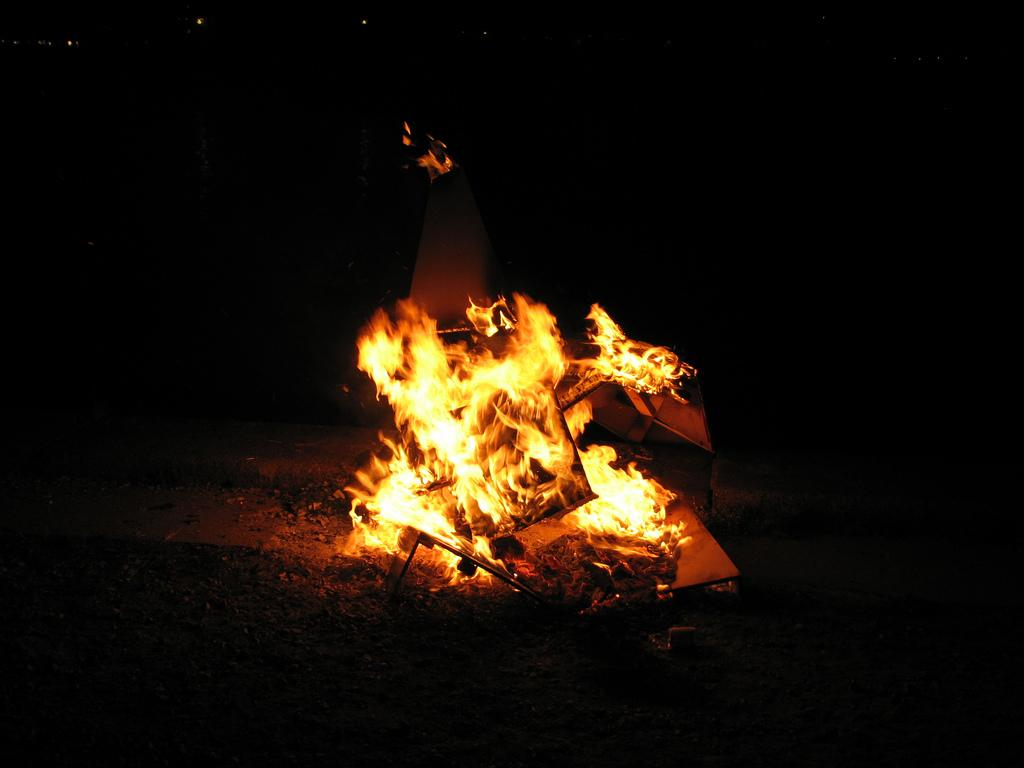fire: (400, 326, 584, 502), (596, 454, 672, 552), (602, 320, 690, 388)
